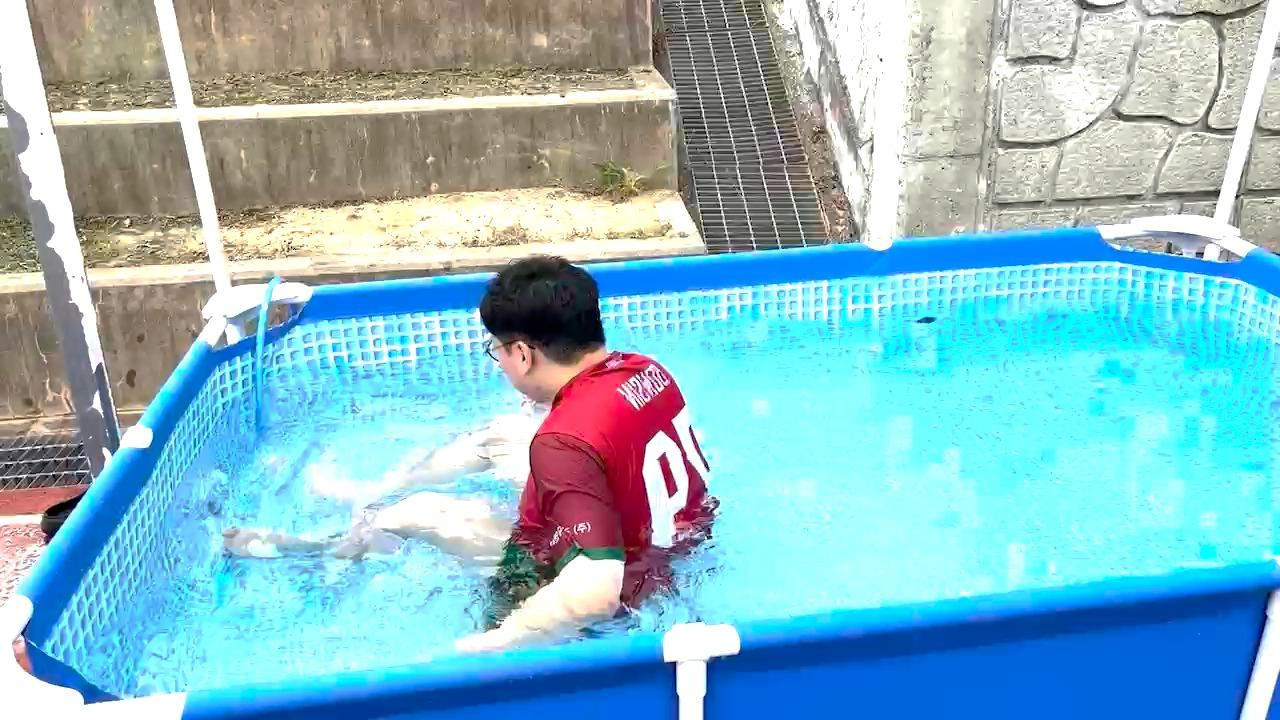Swimming: (175, 199, 783, 643)
